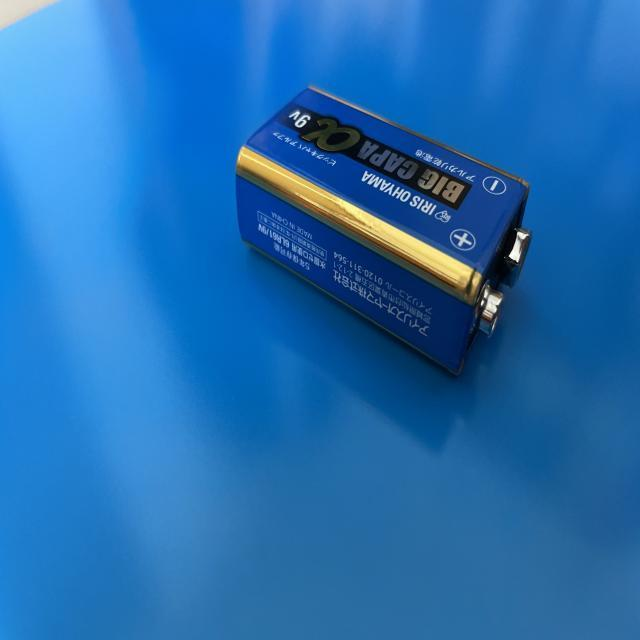9V: (236, 87, 533, 371)
